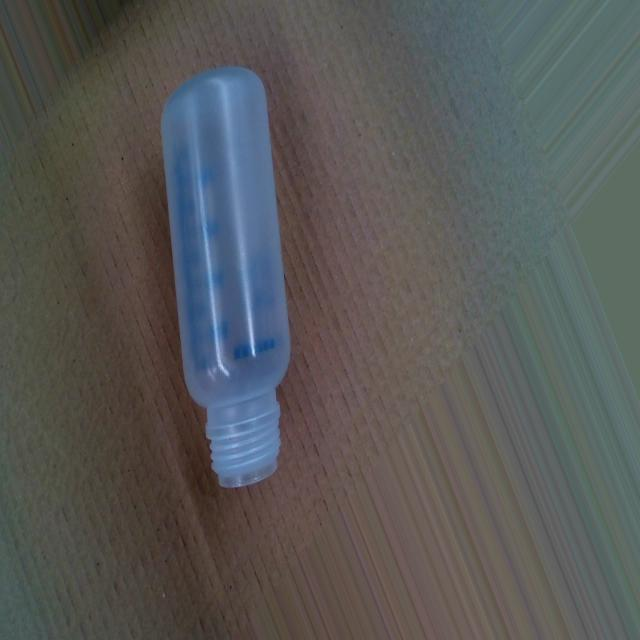bottle: (159, 66, 294, 493)
